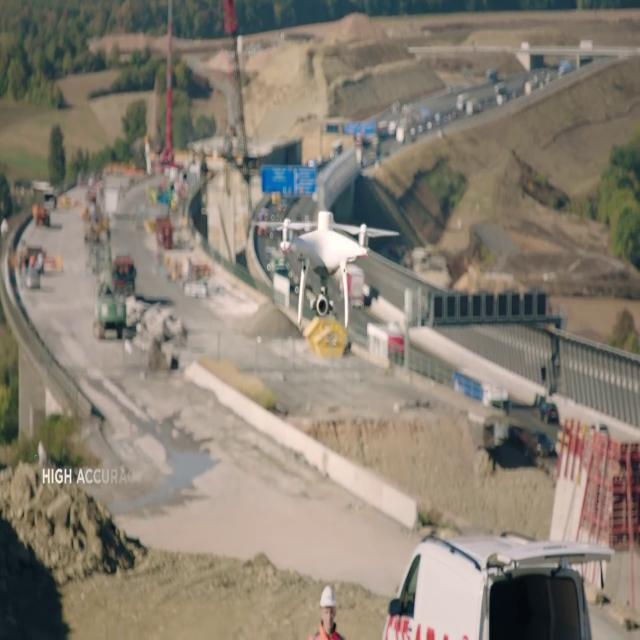drone: (256, 210, 401, 330)
